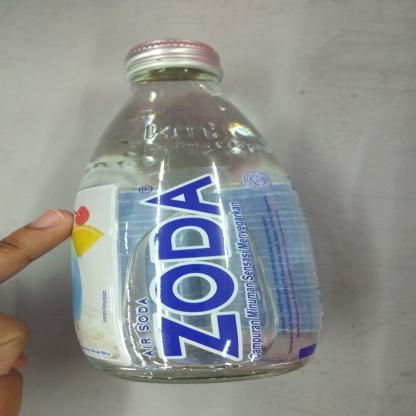glass: (60, 35, 330, 388)
